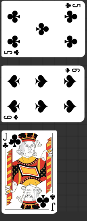4C: (3, 48, 21, 56)
JC: (49, 192, 57, 211), (2, 132, 10, 149)
